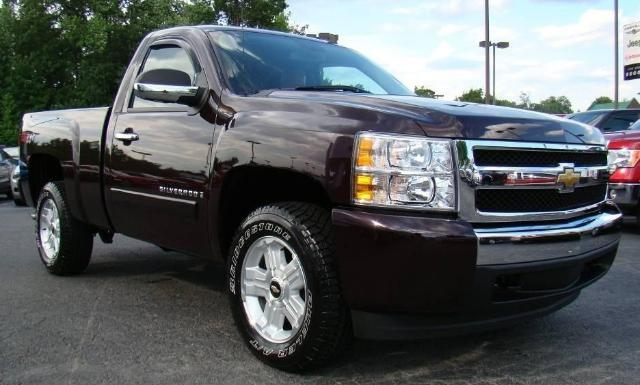pickup-truck: (17, 24, 622, 372)
